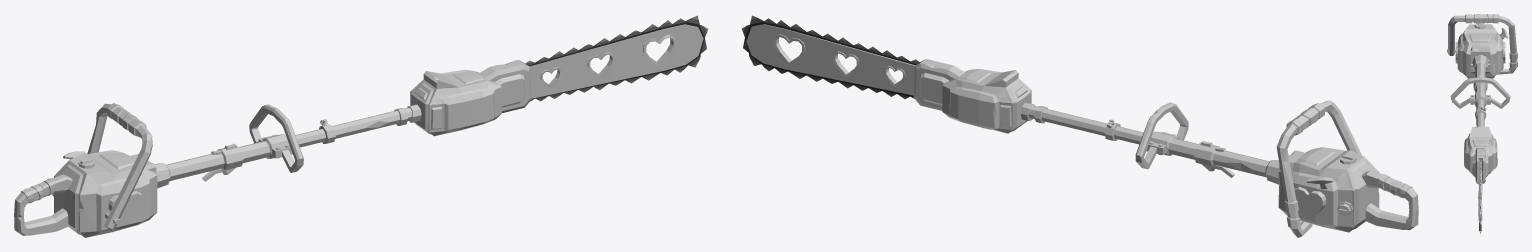
Rendered from SM_Wep_Bubblegum_Killstick_01.fbx.
3 renders of one model, left to right at view 1: azimuth 30°, elevation 25°; view 2: azimuth 150°, elevation 25°; view 3: azimuth 270°, elevation 25°, orthographic. The views are drawn at different scales.
Parts seen in each view (by area): view 1: SM_Wep_Bubblegum_Killstick_01; view 2: SM_Wep_Bubblegum_Killstick_01; view 3: SM_Wep_Bubblegum_Killstick_01.
Part boxes in pixels (left/top/right/bottom): SM_Wep_Bubblegum_Killstick_01: left=14, top=15, right=708, bottom=237; SM_Wep_Bubblegum_Killstick_01: left=742, top=15, right=1418, bottom=237; SM_Wep_Bubblegum_Killstick_01: left=1447, top=14, right=1517, bottom=233.
Size of the model in its own units: 248 by 36.6 by 36.11.
